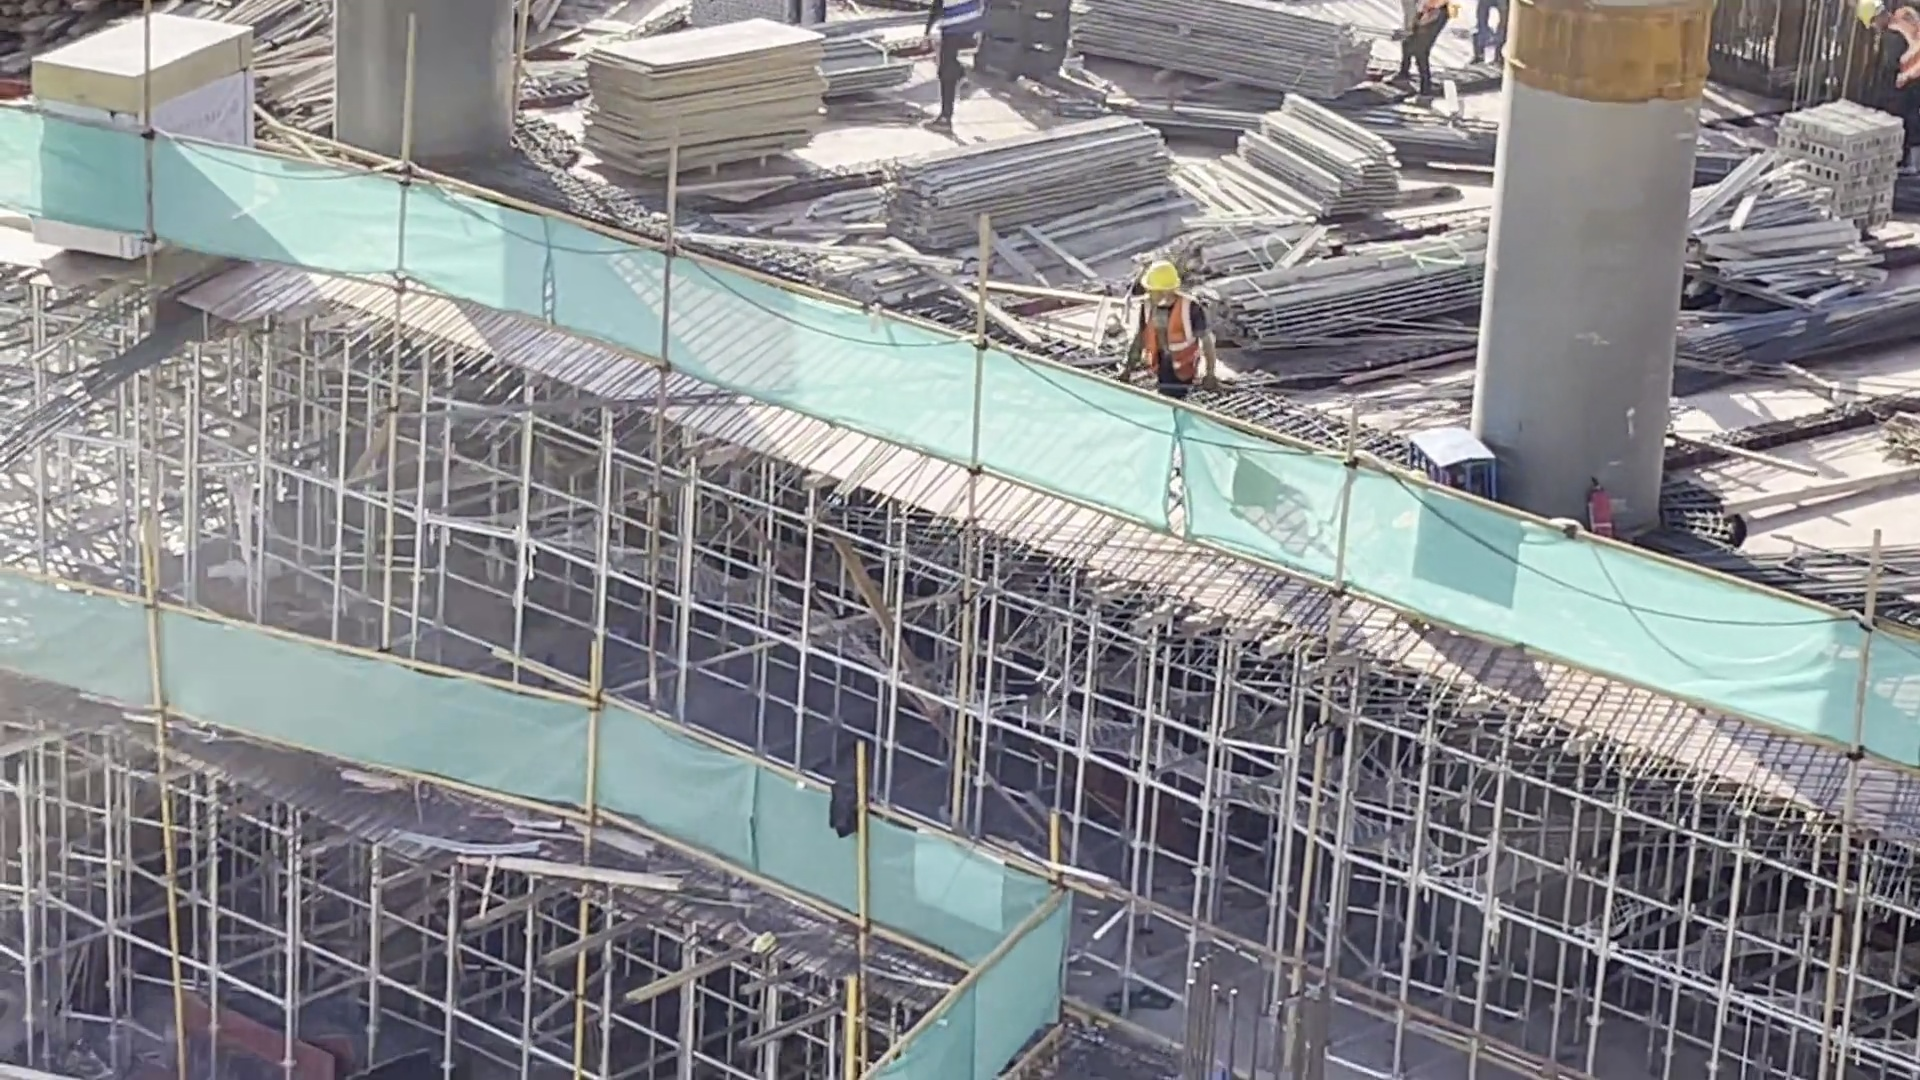board: (609, 1, 841, 147), (83, 26, 276, 181)
helmet: (1144, 247, 1191, 287), (1864, 1, 1884, 31)
person: (1138, 245, 1211, 391), (943, 1, 1006, 121), (1859, 26, 1920, 146), (1387, 1, 1436, 101), (1461, 1, 1493, 75)
rebar: (1153, 86, 1491, 183), (1651, 280, 1920, 396), (1746, 508, 1920, 643)
vest: (1879, 19, 1920, 92), (1154, 304, 1209, 359), (952, 1, 983, 69), (1427, 1, 1448, 32)
wood: (275, 1, 373, 152)
